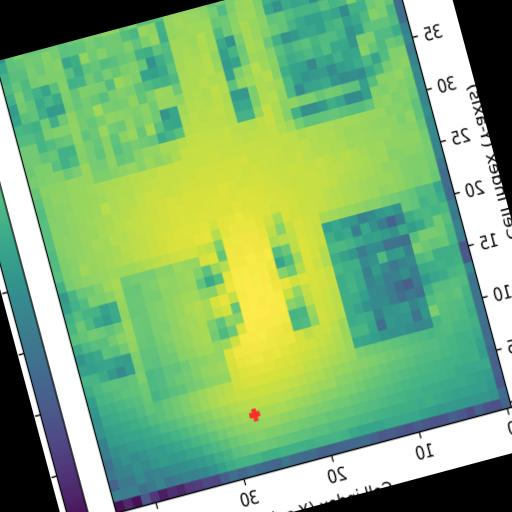Concrete: (60, 35, 172, 184)
Glass: (259, 0, 372, 119)
Metal: (120, 258, 231, 403)
Wood: (320, 202, 432, 348)
